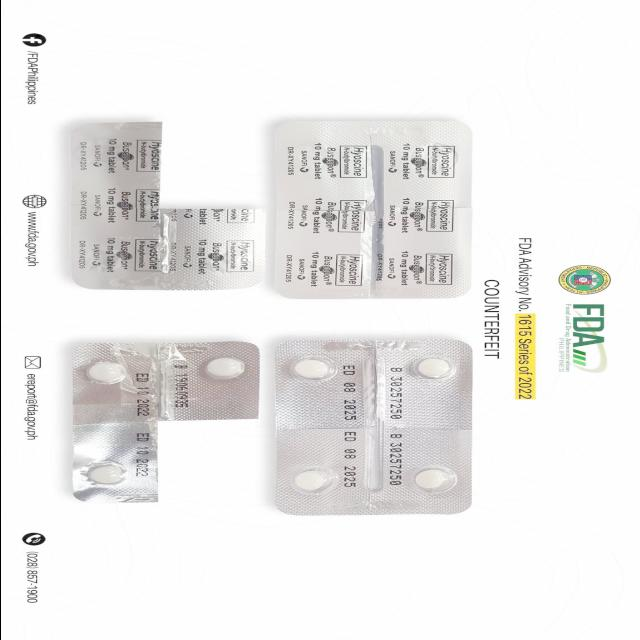counterfeit: (268, 120, 478, 302), (57, 117, 266, 291), (267, 343, 473, 515), (67, 344, 256, 504)
